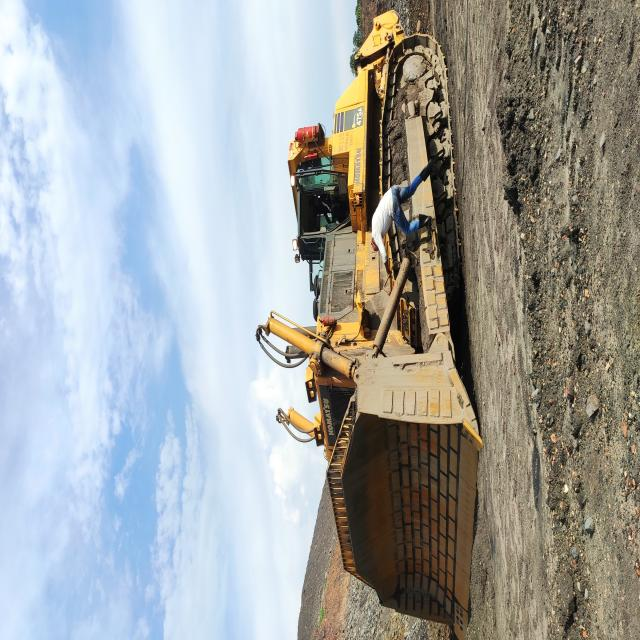buldozerpayloadergrader: (34, 460, 331, 640)
